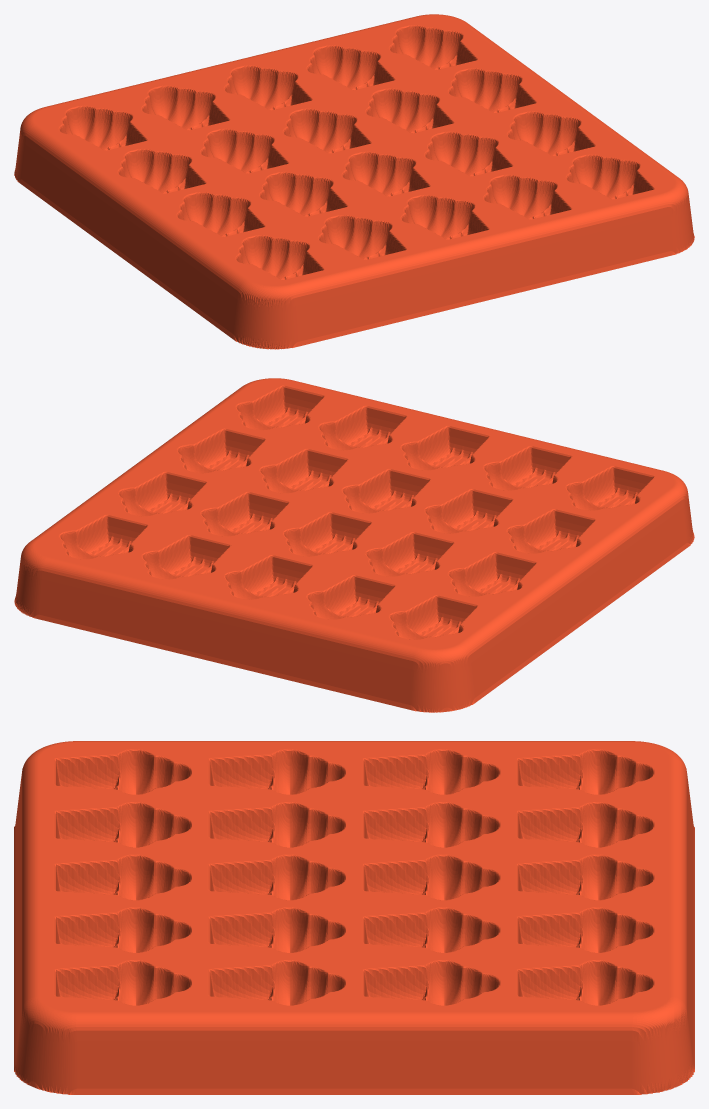
The model's file is mold.glb.
The picture shows the model from 3 angles, top to bottom: view 1: azimuth 30°, elevation 25°; view 2: azimuth 150°, elevation 25°; view 3: azimuth 270°, elevation 25°; orthographic projection. The views are drawn at different scales.
Parts seen in each view (by area): view 1: geometry_0; view 2: geometry_0; view 3: geometry_0.
Boxes of the visible parts, x1,y1,x2,y2 form: geometry_0: (14, 14, 694, 349); geometry_0: (14, 378, 694, 712); geometry_0: (14, 741, 694, 1094).
Size of the model in its own units: 0.0982 by 0.0114 by 0.0972.
